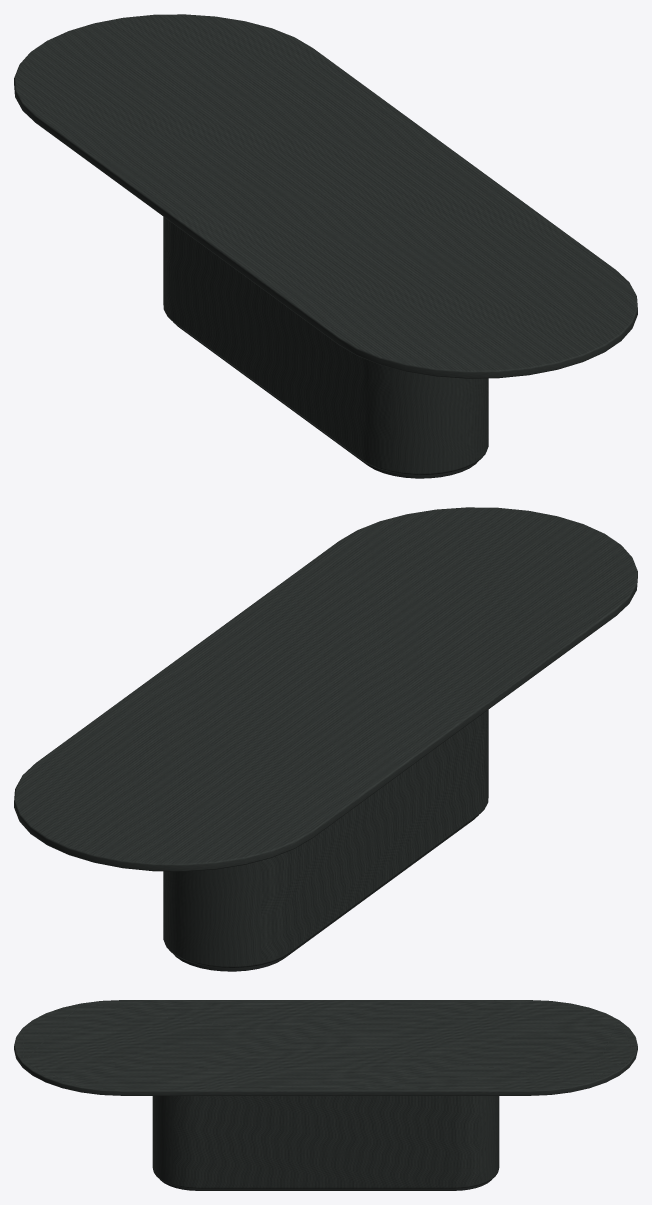
3 views of the same model, one above another, from view 1: azimuth 30°, elevation 25°; view 2: azimuth 150°, elevation 25°; view 3: azimuth 270°, elevation 25° (orthographic). The views are drawn at different scales.
Parts seen in each view (by area): view 1: Long charcoal capsule tabletop, Pedestal recessed floor plinth; view 2: Long charcoal capsule tabletop, Pedestal recessed floor plinth; view 3: Long charcoal capsule tabletop, Pedestal recessed floor plinth.
Boxes of the visible parts, x1,y1,x2,y2 form: Long charcoal capsule tabletop: [14, 14, 637, 474]; Pedestal recessed floor plinth: [173, 322, 478, 478]; Long charcoal capsule tabletop: [14, 507, 637, 967]; Pedestal recessed floor plinth: [173, 815, 478, 971]; Long charcoal capsule tabletop: [14, 1000, 637, 1188]; Pedestal recessed floor plinth: [160, 1179, 491, 1190].
Size of the model in its own units: 1.16 by 0.761 by 3.35.
2 materials, 1 textured.
